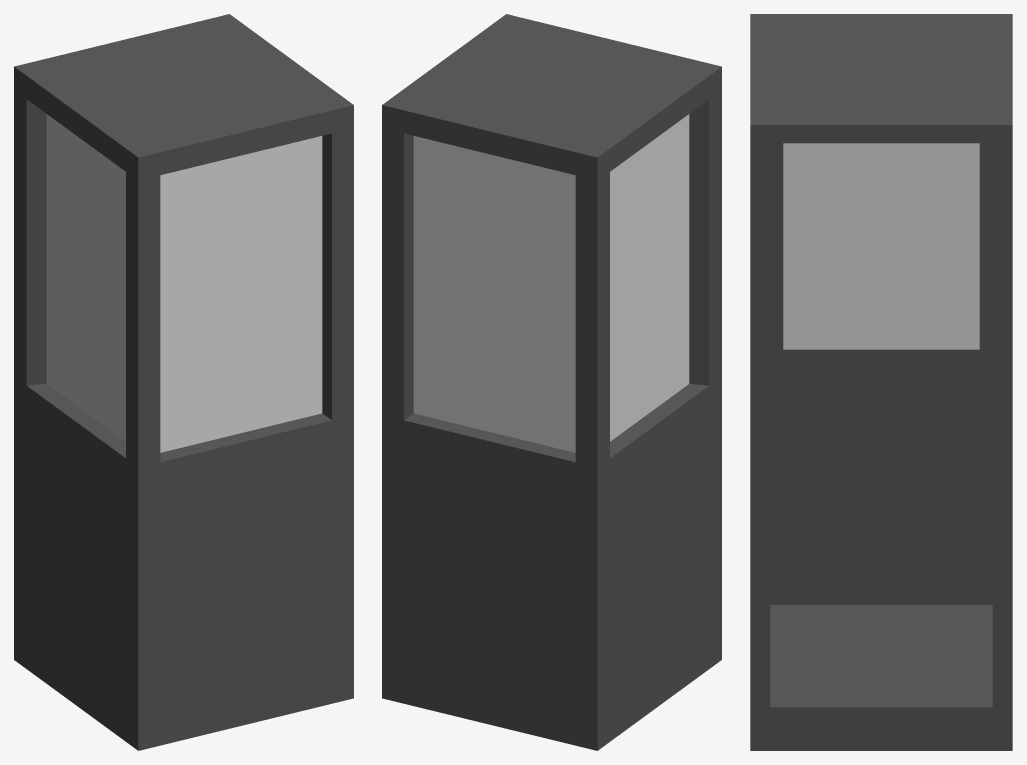
File: Budka.fbx
The picture shows the model from 3 angles, left to right: view 1: azimuth 30°, elevation 25°; view 2: azimuth 150°, elevation 25°; view 3: azimuth 270°, elevation 25°; orthographic projection. The views are drawn at different scales.
Visible parts, largest first — view 1: Budka; view 2: Budka; view 3: Budka.
Part boxes in pixels (bbox=[...]): Budka: bbox=[14, 14, 353, 750]; Budka: bbox=[382, 14, 721, 750]; Budka: bbox=[750, 14, 1012, 750].
Bounding box in the file's own units: 200 × 526 × 200.
